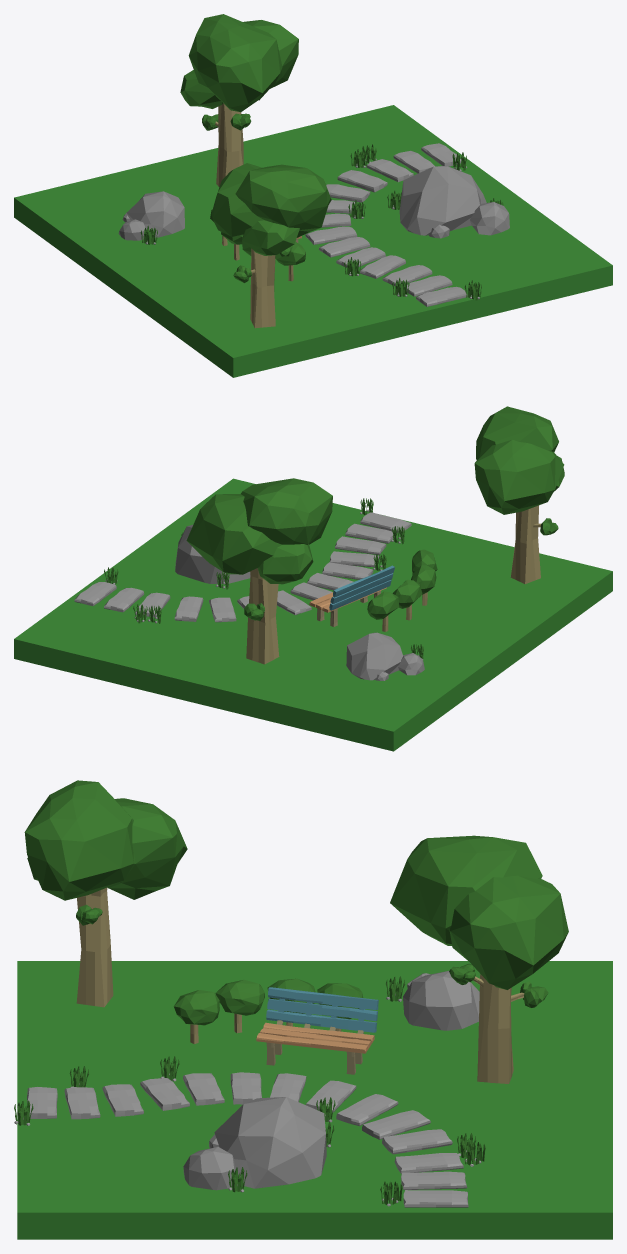
Rendered from Park 1.fbx.
3 views of the same model, one above another, from view 1: azimuth 30°, elevation 25°; view 2: azimuth 150°, elevation 25°; view 3: azimuth 270°, elevation 25° (orthographic). The views are drawn at different scales.
Visible parts, largest first — view 1: Cube.004; view 2: Cube.004; view 3: Cube.004.
Part boxes in pixels (left/top/right/bottom): Cube.004: left=14, top=14, right=612, bottom=377; Cube.004: left=14, top=406, right=612, bottom=751; Cube.004: left=14, top=780, right=612, bottom=1239.
Size of the model in its own units: 2000 by 1006 by 2011.
